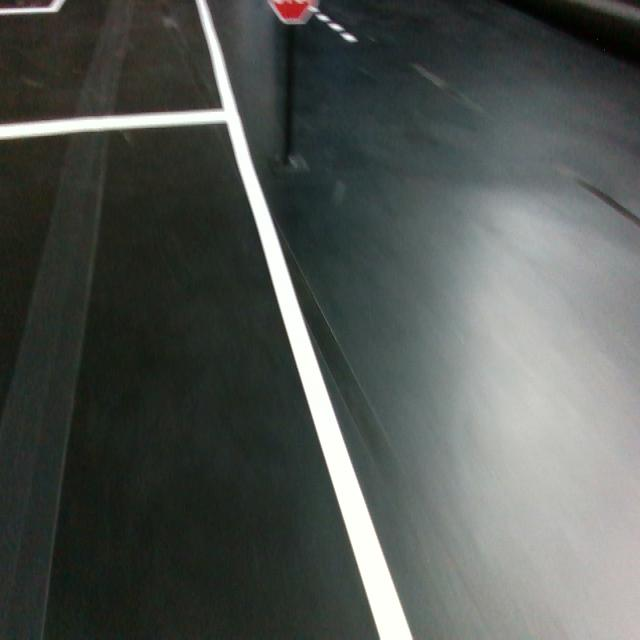stop-sign: (266, 1, 320, 26)
